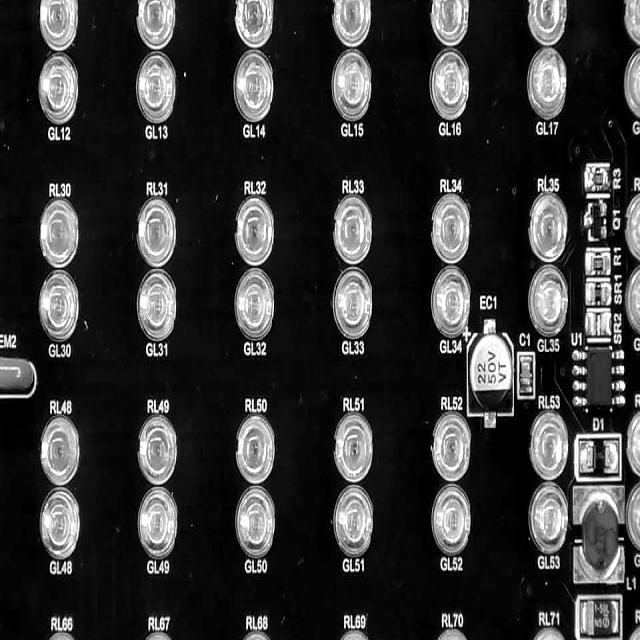Capacitor: (469, 335, 514, 412), (588, 598, 615, 638), (520, 361, 531, 383)
Diode: (586, 444, 611, 471)
EMC filter: (0, 352, 35, 393)
IC: (588, 348, 614, 410)
Inductor: (582, 496, 619, 574)
Mosfet: (592, 203, 604, 240)
Register: (591, 256, 607, 274), (592, 286, 606, 303), (592, 171, 605, 185), (595, 314, 603, 336)
Soldering: (580, 440, 592, 473), (607, 441, 618, 473), (584, 168, 595, 192), (602, 168, 612, 194), (580, 603, 587, 634), (586, 309, 594, 336), (586, 253, 595, 274), (604, 254, 612, 276), (520, 383, 534, 394), (605, 314, 612, 336), (586, 284, 593, 304), (604, 286, 610, 305)
led: (428, 48, 472, 124), (431, 482, 473, 561), (430, 261, 472, 340), (526, 264, 568, 341), (38, 266, 80, 343), (527, 480, 570, 555), (429, 191, 472, 266), (138, 484, 180, 560), (428, 406, 472, 478), (332, 266, 373, 343), (234, 48, 275, 124), (332, 484, 374, 558), (136, 270, 178, 344), (38, 486, 81, 558), (330, 48, 373, 119), (236, 413, 277, 487), (136, 412, 178, 484), (135, 196, 176, 269), (38, 199, 80, 270), (236, 483, 276, 557), (333, 412, 373, 486), (235, 265, 276, 337), (38, 54, 80, 124), (528, 48, 568, 120), (528, 192, 568, 264), (136, 52, 176, 124), (39, 417, 80, 486), (235, 196, 274, 268), (530, 409, 568, 480), (334, 196, 372, 265), (39, 0, 80, 50), (234, 0, 275, 49), (137, 0, 178, 49), (330, 0, 372, 47), (528, 0, 569, 46), (430, 0, 470, 46), (623, 190, 640, 262), (624, 47, 640, 120), (625, 478, 640, 552), (625, 263, 640, 332), (626, 407, 640, 478), (621, 0, 639, 47), (430, 622, 474, 640), (527, 623, 570, 640)
